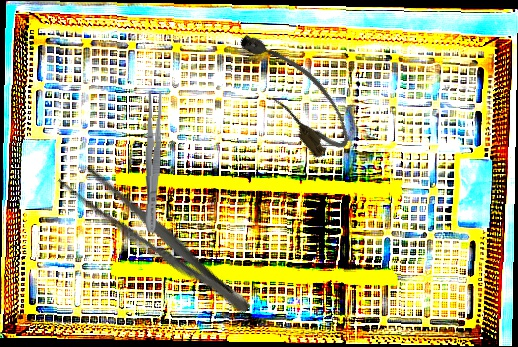Cannula: (230, 15, 361, 166)
Dressing Forceps: (53, 155, 260, 325), (141, 90, 165, 233)
